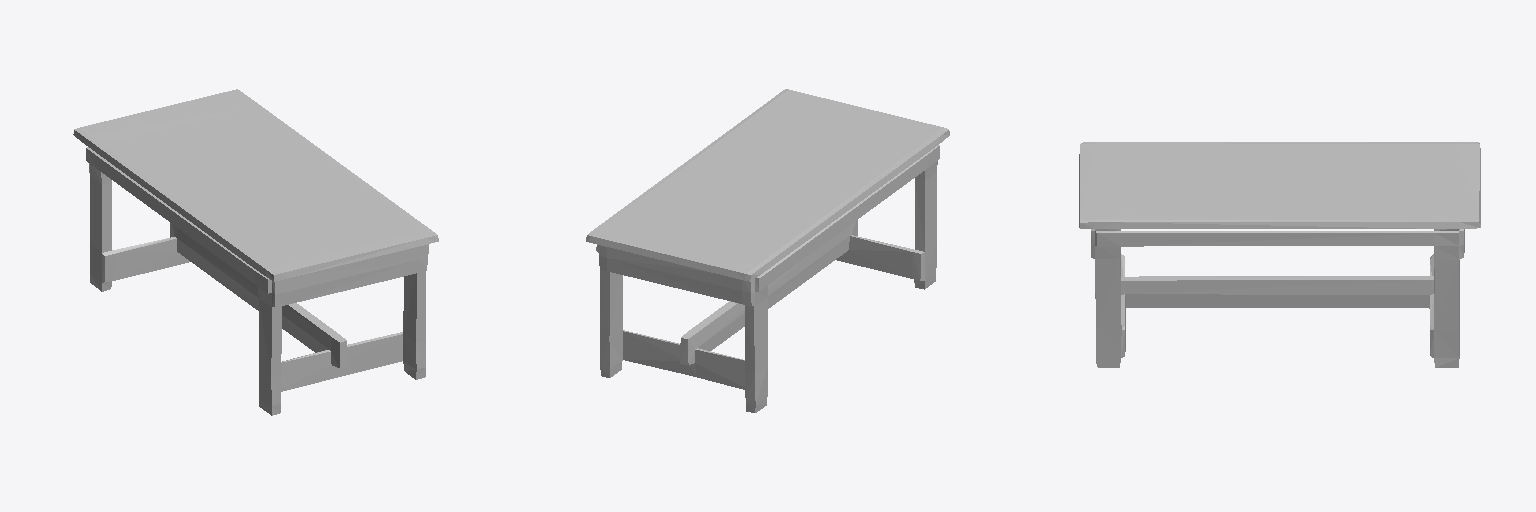
Rendered from wooden_table.obj.
3 views of the same model, side by side, from view 1: azimuth 30°, elevation 25°; view 2: azimuth 150°, elevation 25°; view 3: azimuth 270°, elevation 25° (orthographic).
Visible parts, largest first — view 1: defaultMaterial; view 2: defaultMaterial; view 3: defaultMaterial.
Boxes of the visible parts, box(x1,y1,x2,y2) form: defaultMaterial: box(73, 89, 438, 415); defaultMaterial: box(586, 89, 949, 412); defaultMaterial: box(1079, 142, 1480, 367).
Size of the model in its own units: 1.15 by 0.9801 by 2.41.